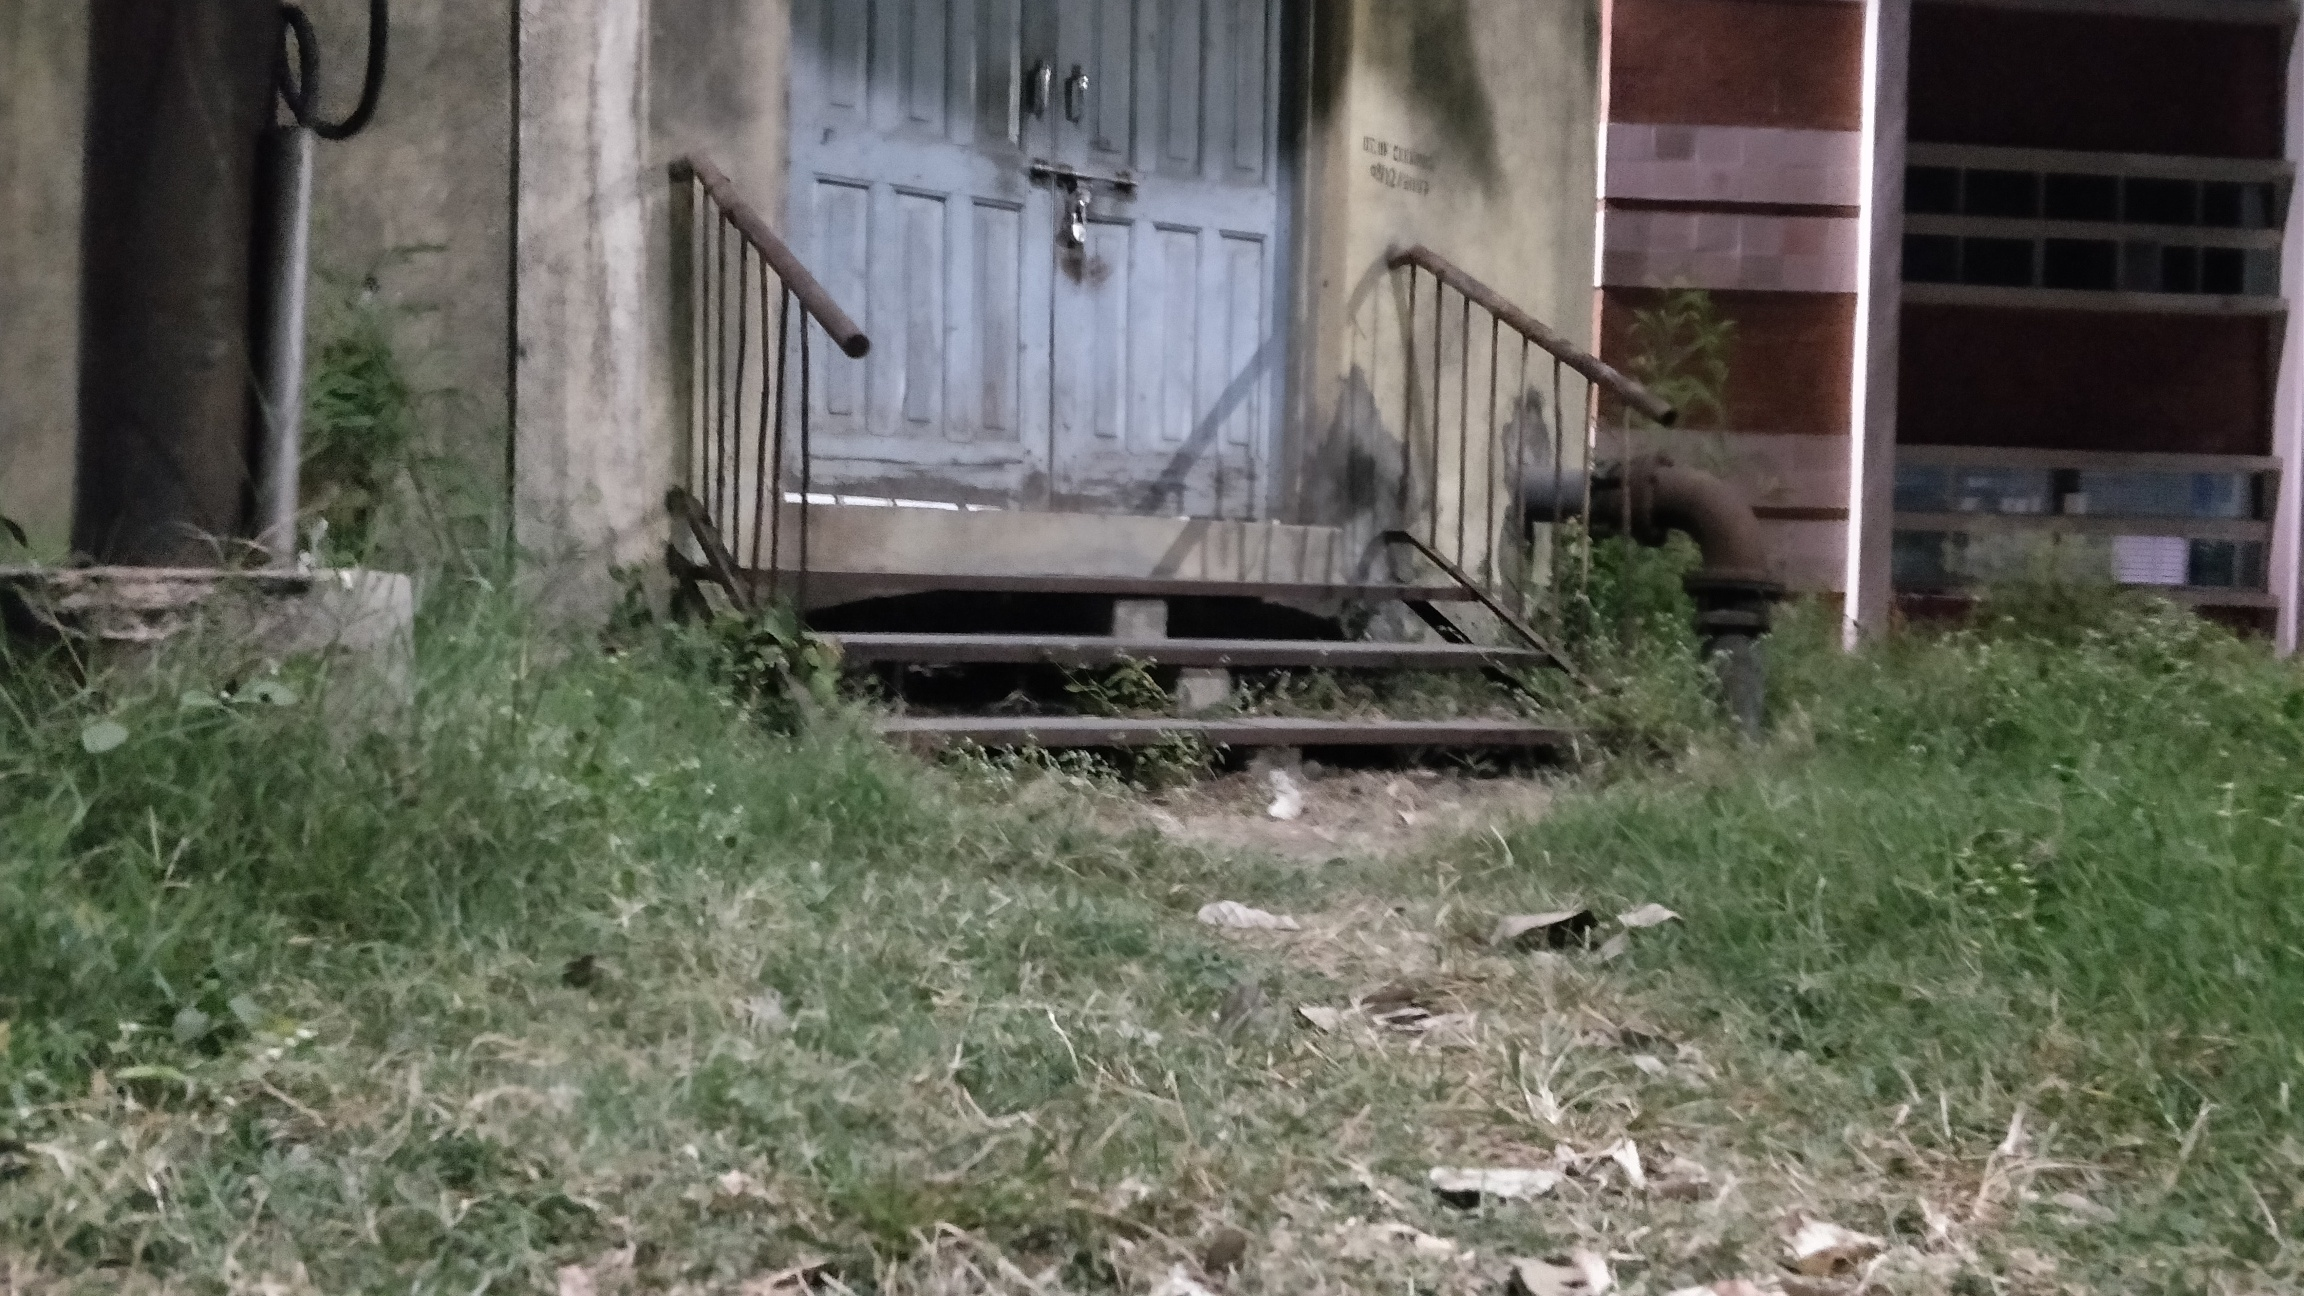stairs_up: (720, 562, 1587, 790)
